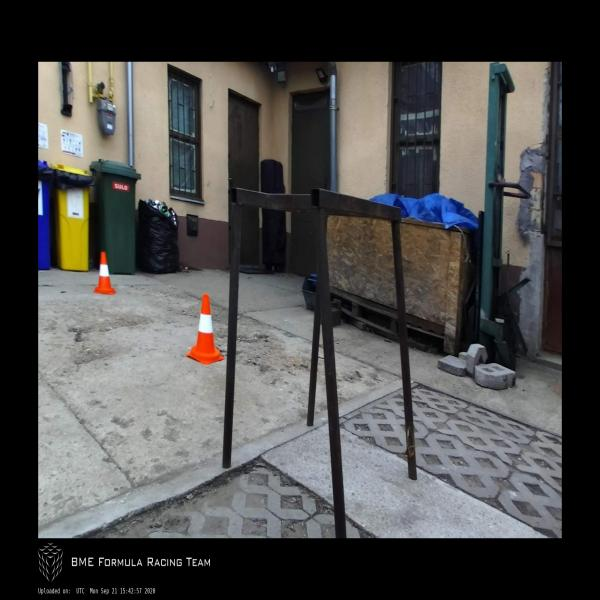orange_cone: (186, 294, 224, 364), (93, 252, 116, 295)
